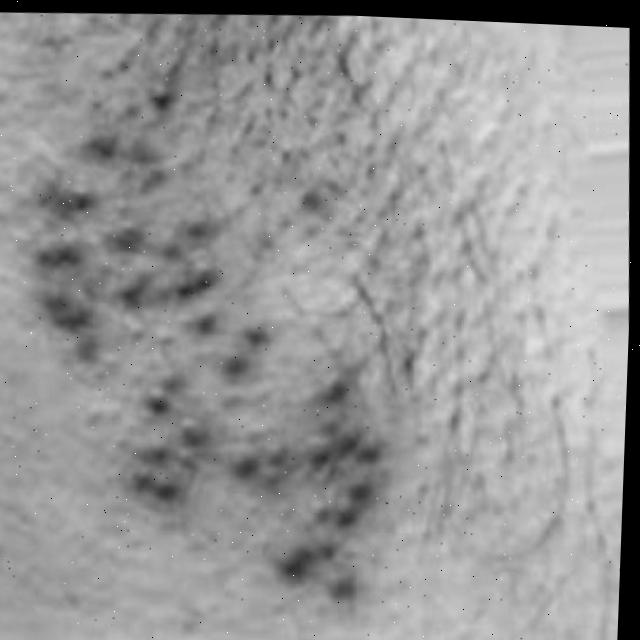Shingles: (1, 80, 397, 611)
